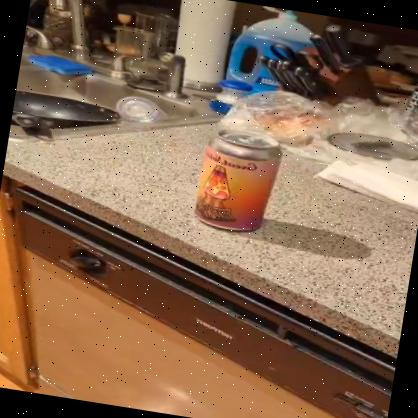can: (191, 124, 284, 237)
